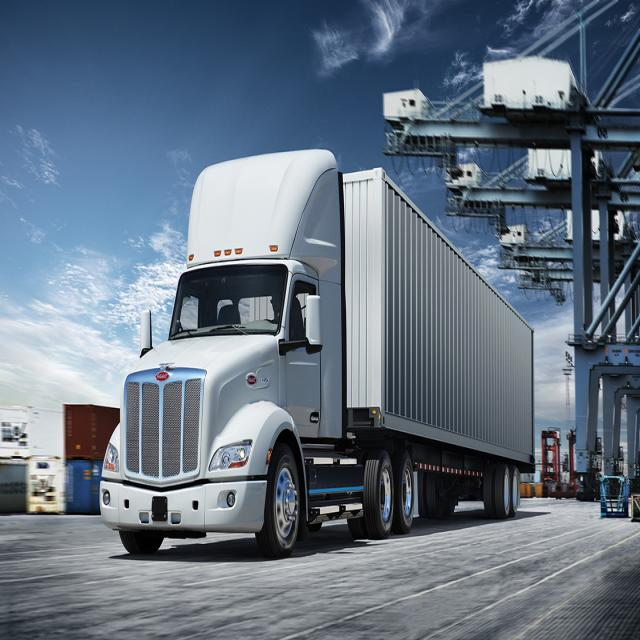truck: (93, 122, 552, 562)
